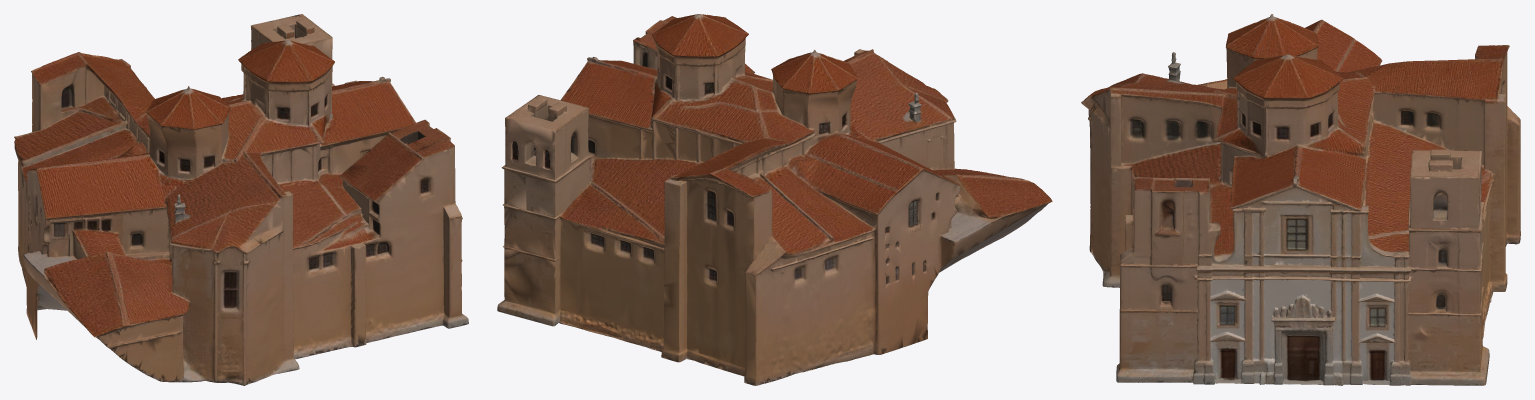
Rendered from annunziata1.glb.
3 views of the same model, side by side, from view 1: azimuth 30°, elevation 25°; view 2: azimuth 150°, elevation 25°; view 3: azimuth 270°, elevation 25° (orthographic). The views are drawn at different scales.
Parts seen in each view (by area): view 1: tripo_node_b8eb1ab9-ba7c-4088-8847-35c89579b08b; view 2: tripo_node_b8eb1ab9-ba7c-4088-8847-35c89579b08b; view 3: tripo_node_b8eb1ab9-ba7c-4088-8847-35c89579b08b.
Boxes of the visible parts, box(x1,y1,x2,y2) form: tripo_node_b8eb1ab9-ba7c-4088-8847-35c89579b08b: box(14, 14, 468, 385); tripo_node_b8eb1ab9-ba7c-4088-8847-35c89579b08b: box(497, 14, 1052, 385); tripo_node_b8eb1ab9-ba7c-4088-8847-35c89579b08b: box(1081, 14, 1520, 385).
Size of the model in its own units: 0.9843 by 0.6208 by 0.9059.
1 material, 1 textured.
